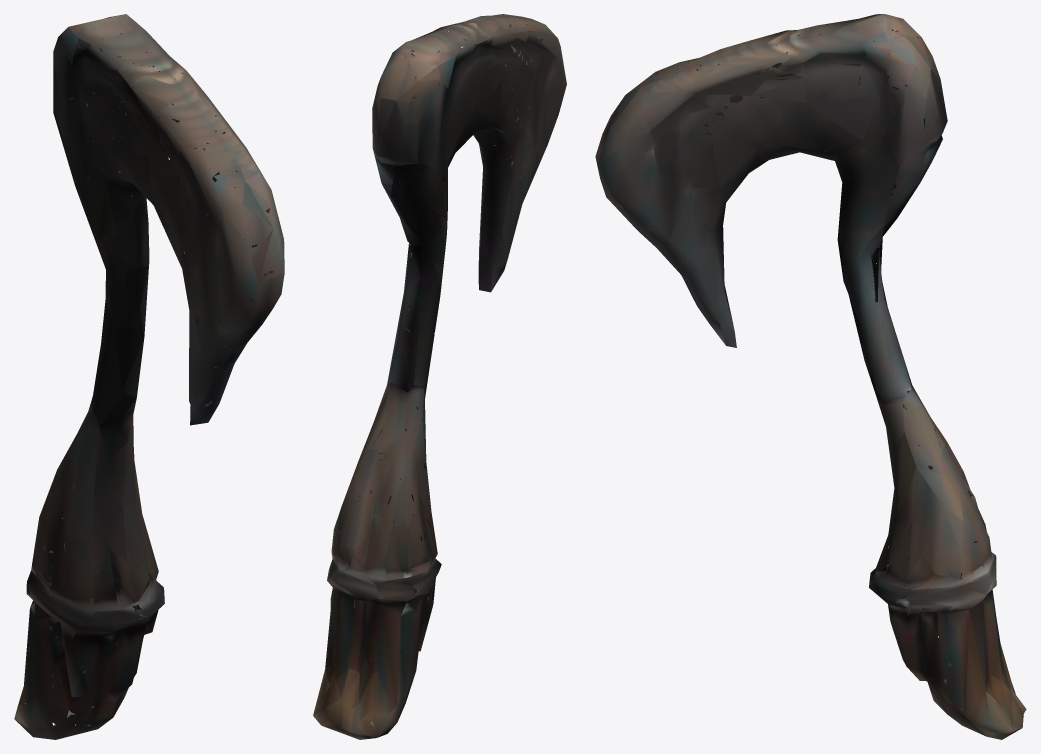
The model's file is 14_archive.fbx.
3 views of the same model, side by side, from view 1: azimuth 30°, elevation 25°; view 2: azimuth 150°, elevation 25°; view 3: azimuth 270°, elevation 25° (orthographic). The views are drawn at different scales.
Parts seen in each view (by area): view 1: 14_archive; view 2: 14_archive; view 3: 14_archive.
Part boxes in pixels (<box>): 14_archive: <box>14,14,284,739</box>; 14_archive: <box>313,14,566,739</box>; 14_archive: <box>595,14,1026,739</box>.
Bounding box in the file's own units: 3.72 × 25 × 14.06.
1 material, 1 textured.
